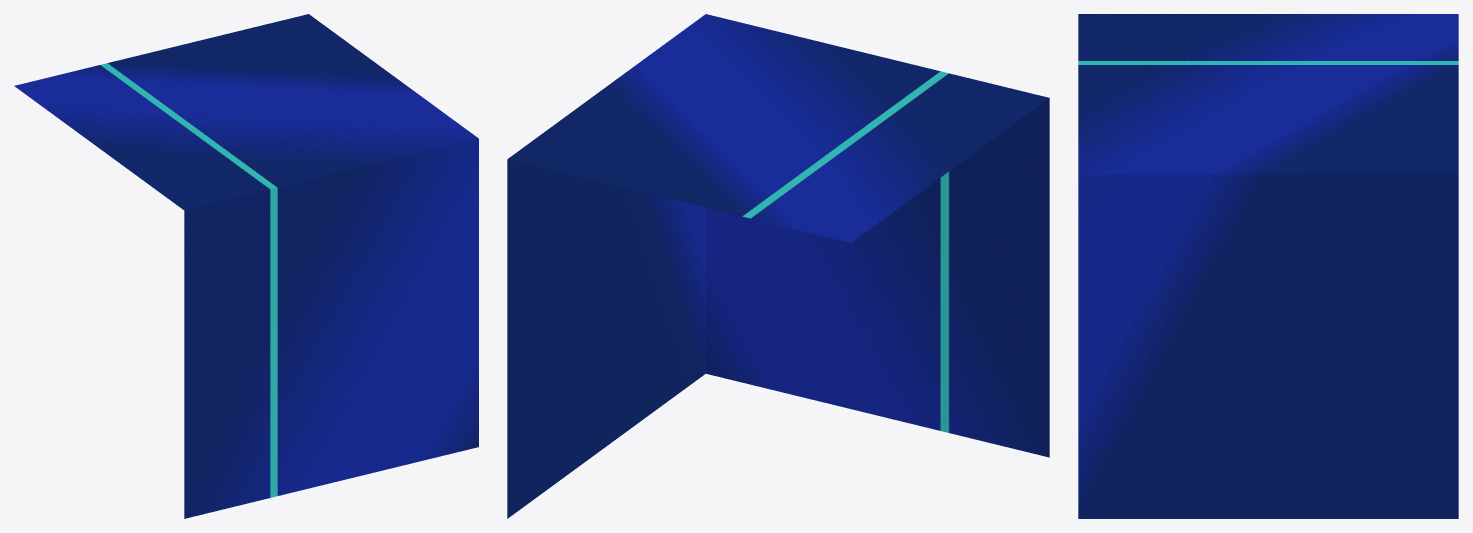
3 renders of one model, left to right at view 1: azimuth 30°, elevation 25°; view 2: azimuth 150°, elevation 25°; view 3: azimuth 270°, elevation 25°, orthographic. The views are drawn at different scales.
Visible parts, largest first — view 1: Cube; view 2: Cube; view 3: Cube.
Part boxes in pixels (x1,y1,x2,y2): Cube: (14, 14, 478, 518); Cube: (507, 14, 1049, 518); Cube: (1078, 14, 1458, 518).
Bounding box in the file's own units: 2 × 2 × 2.
1 material, 1 textured.
